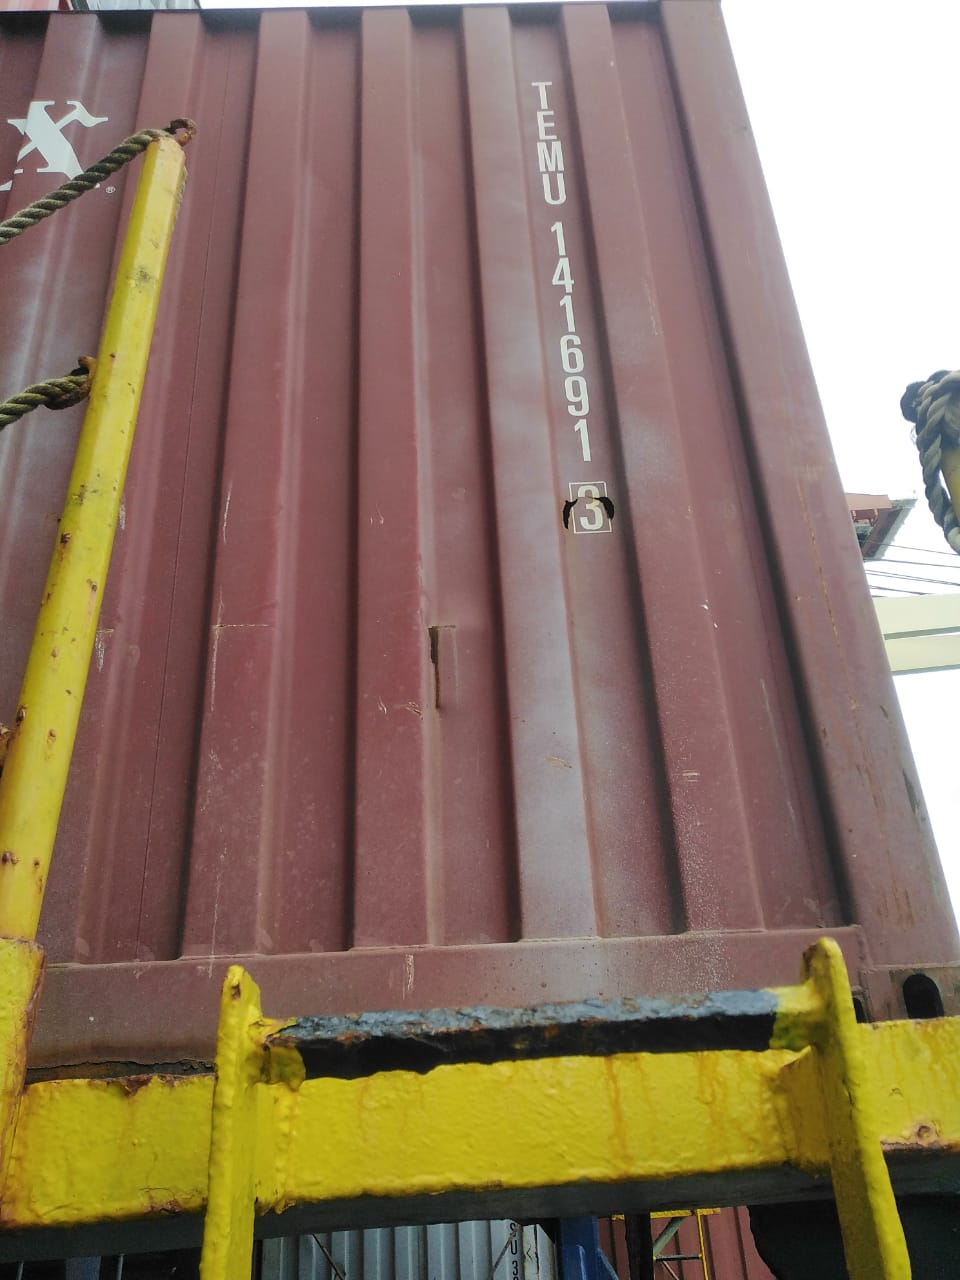moderate: (391, 587, 489, 752)
severe: (541, 467, 631, 545)
